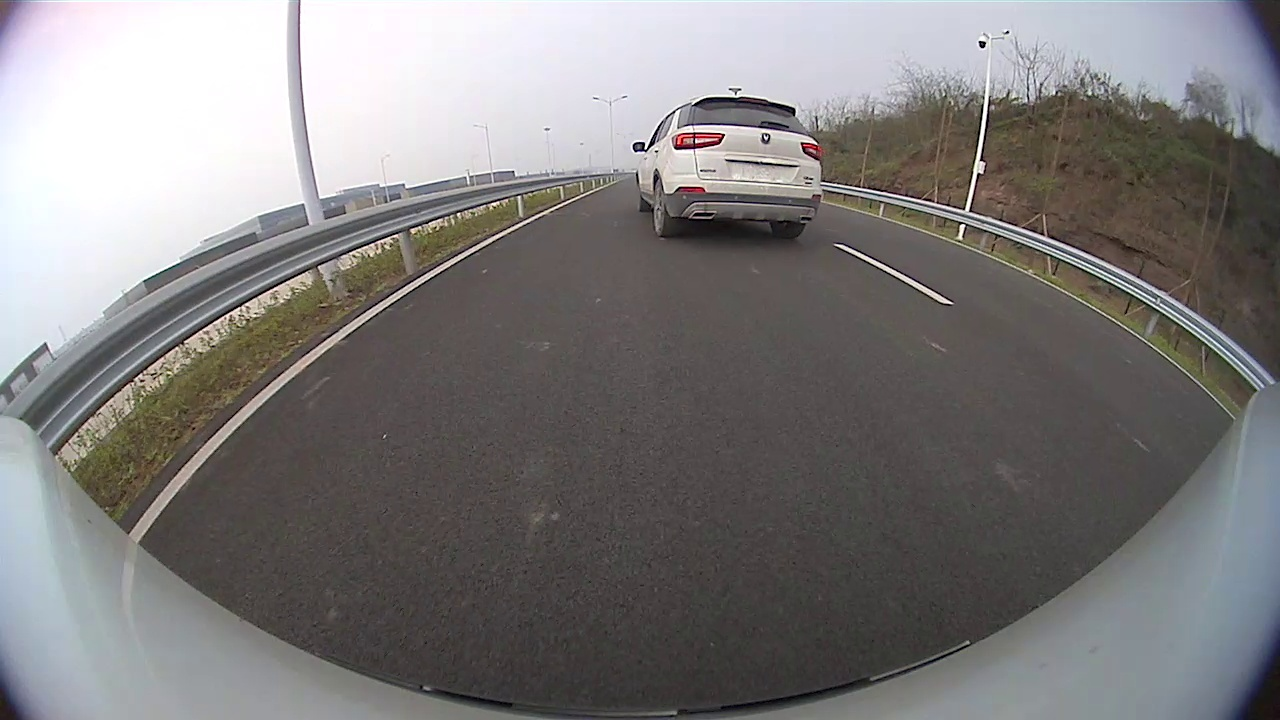car: (631, 93, 824, 240)
rear: (652, 177, 681, 242)
